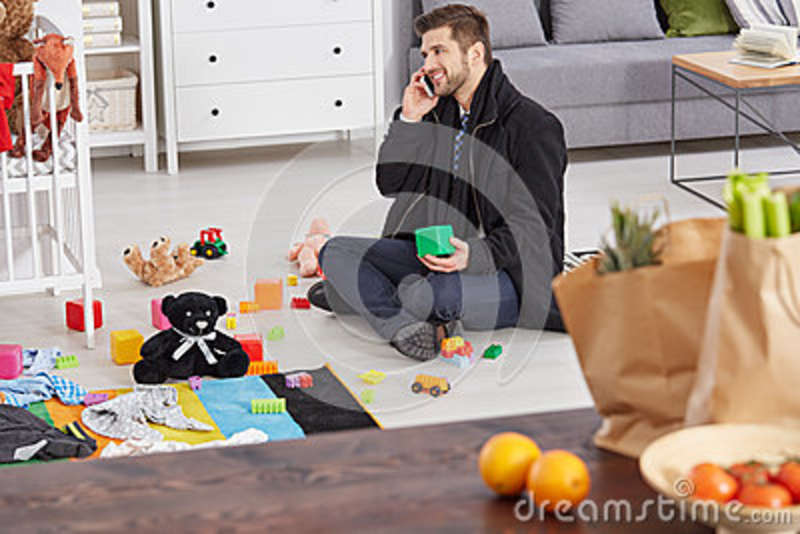talk: (399, 39, 457, 119)
